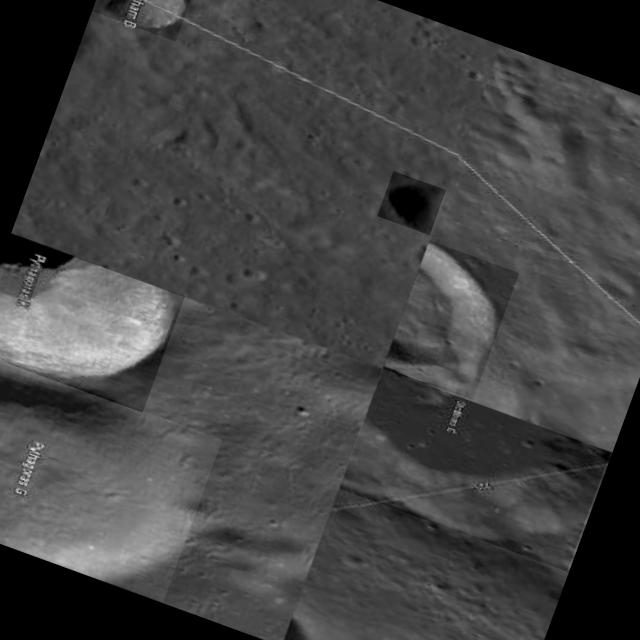crater: (0, 348, 222, 602), (340, 369, 610, 572), (0, 233, 185, 412), (383, 240, 519, 400), (377, 171, 446, 235), (91, 0, 195, 42)
